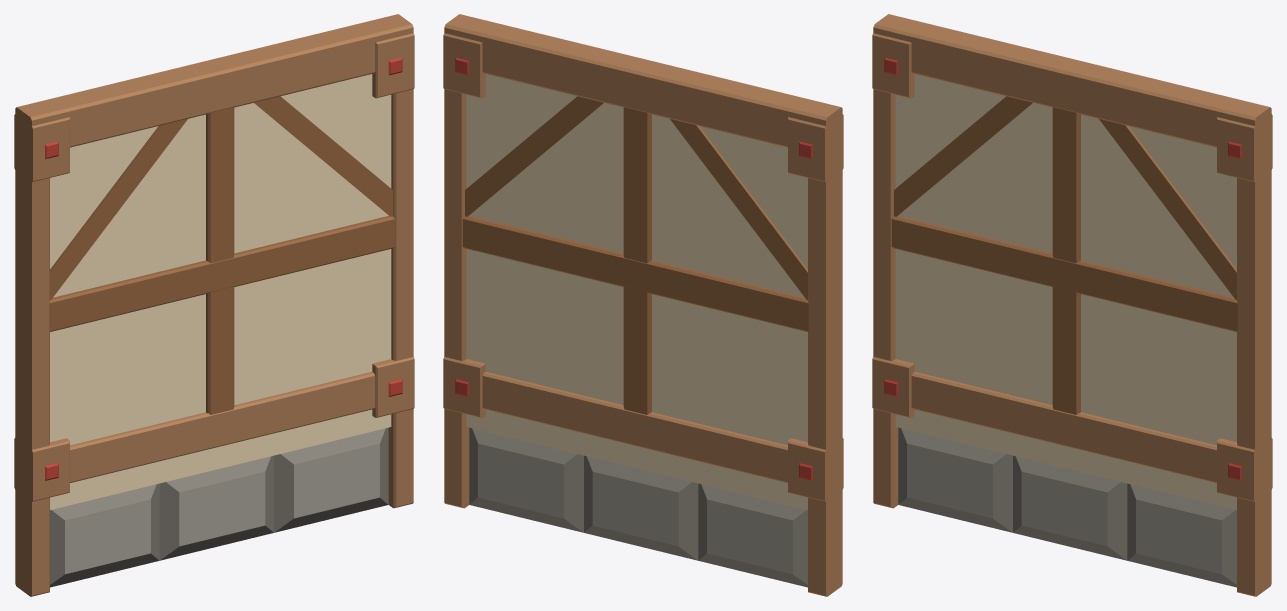
The model's file is FMS_Workshop_MOD_03.fbx.
3 renders of one model, left to right at view 1: azimuth 30°, elevation 25°; view 2: azimuth 150°, elevation 25°; view 3: azimuth 330°, elevation 25°, orthographic.
Visible parts, largest first — view 1: FMS_Workshop_MOD_03_Body; view 2: FMS_Workshop_MOD_03_Body; view 3: FMS_Workshop_MOD_03_Body.
Boxes of the visible parts, x1,y1,x2,y2 form: FMS_Workshop_MOD_03_Body: (14,14,414,596); FMS_Workshop_MOD_03_Body: (443,14,843,596); FMS_Workshop_MOD_03_Body: (872,14,1272,596).
Size of the model in its own units: 2 by 2.4 by 0.18.
Materials: 1 (1 with a texture image).
